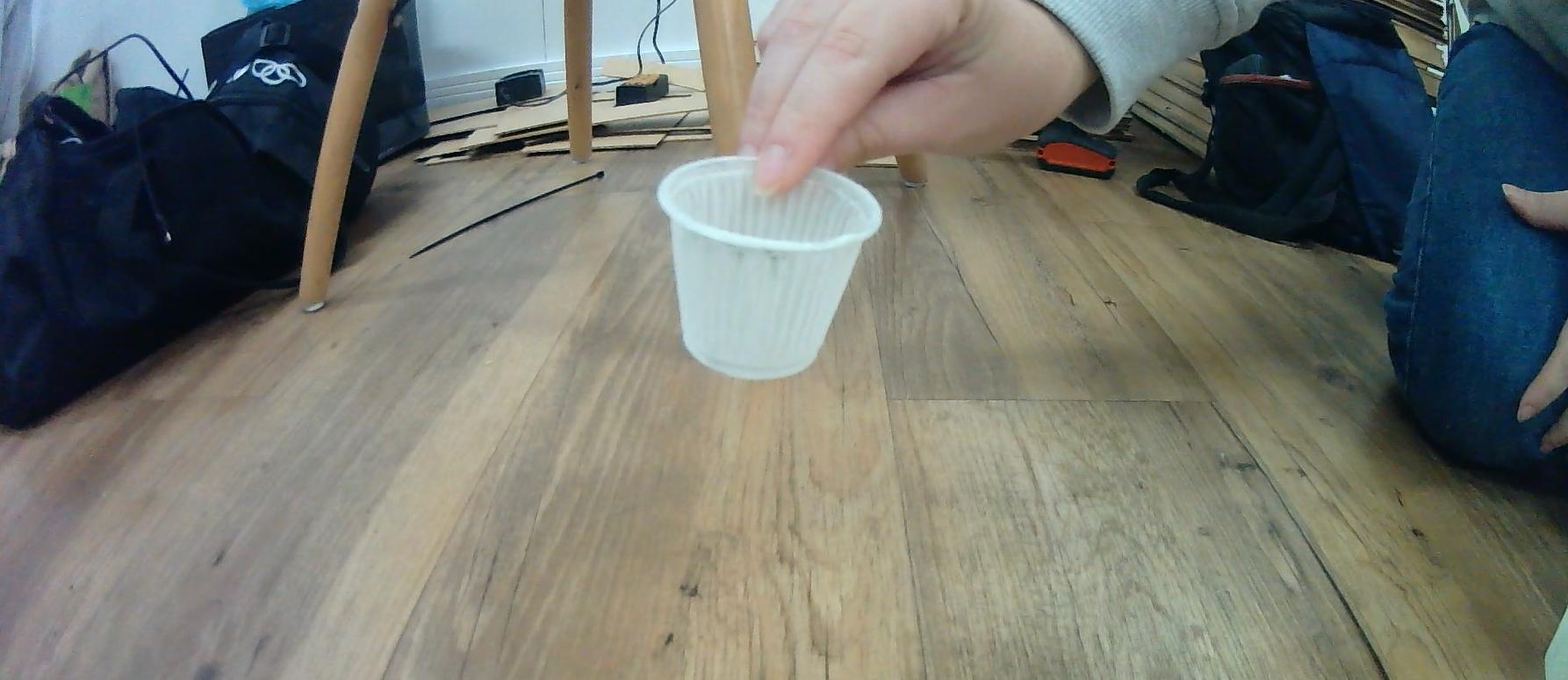planta: (654, 155, 881, 383)
